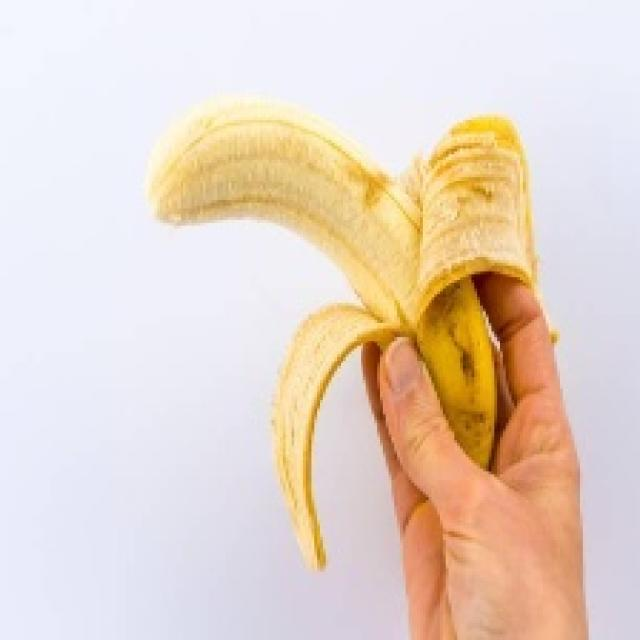Banana: (143, 91, 557, 572)
